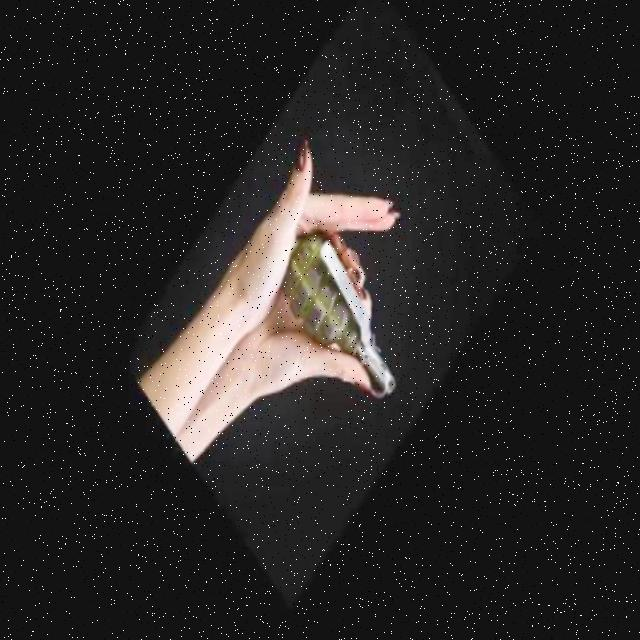grenade: (240, 214, 410, 427)
